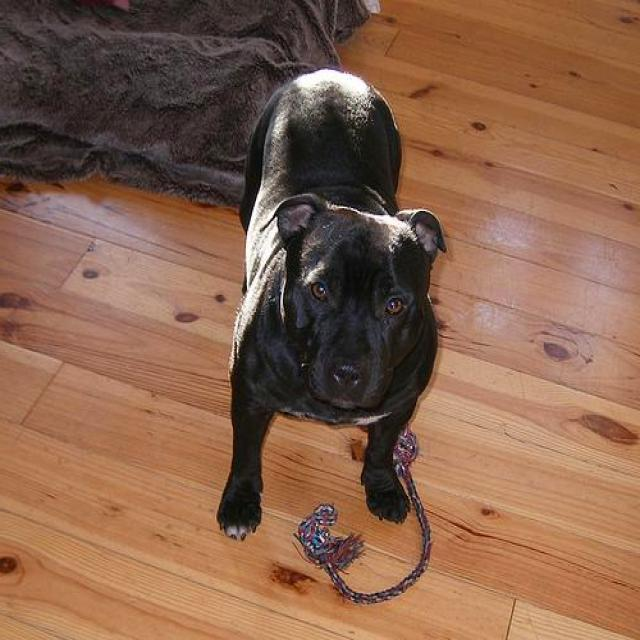staffordshire_bullterrier: (208, 66, 451, 540)
